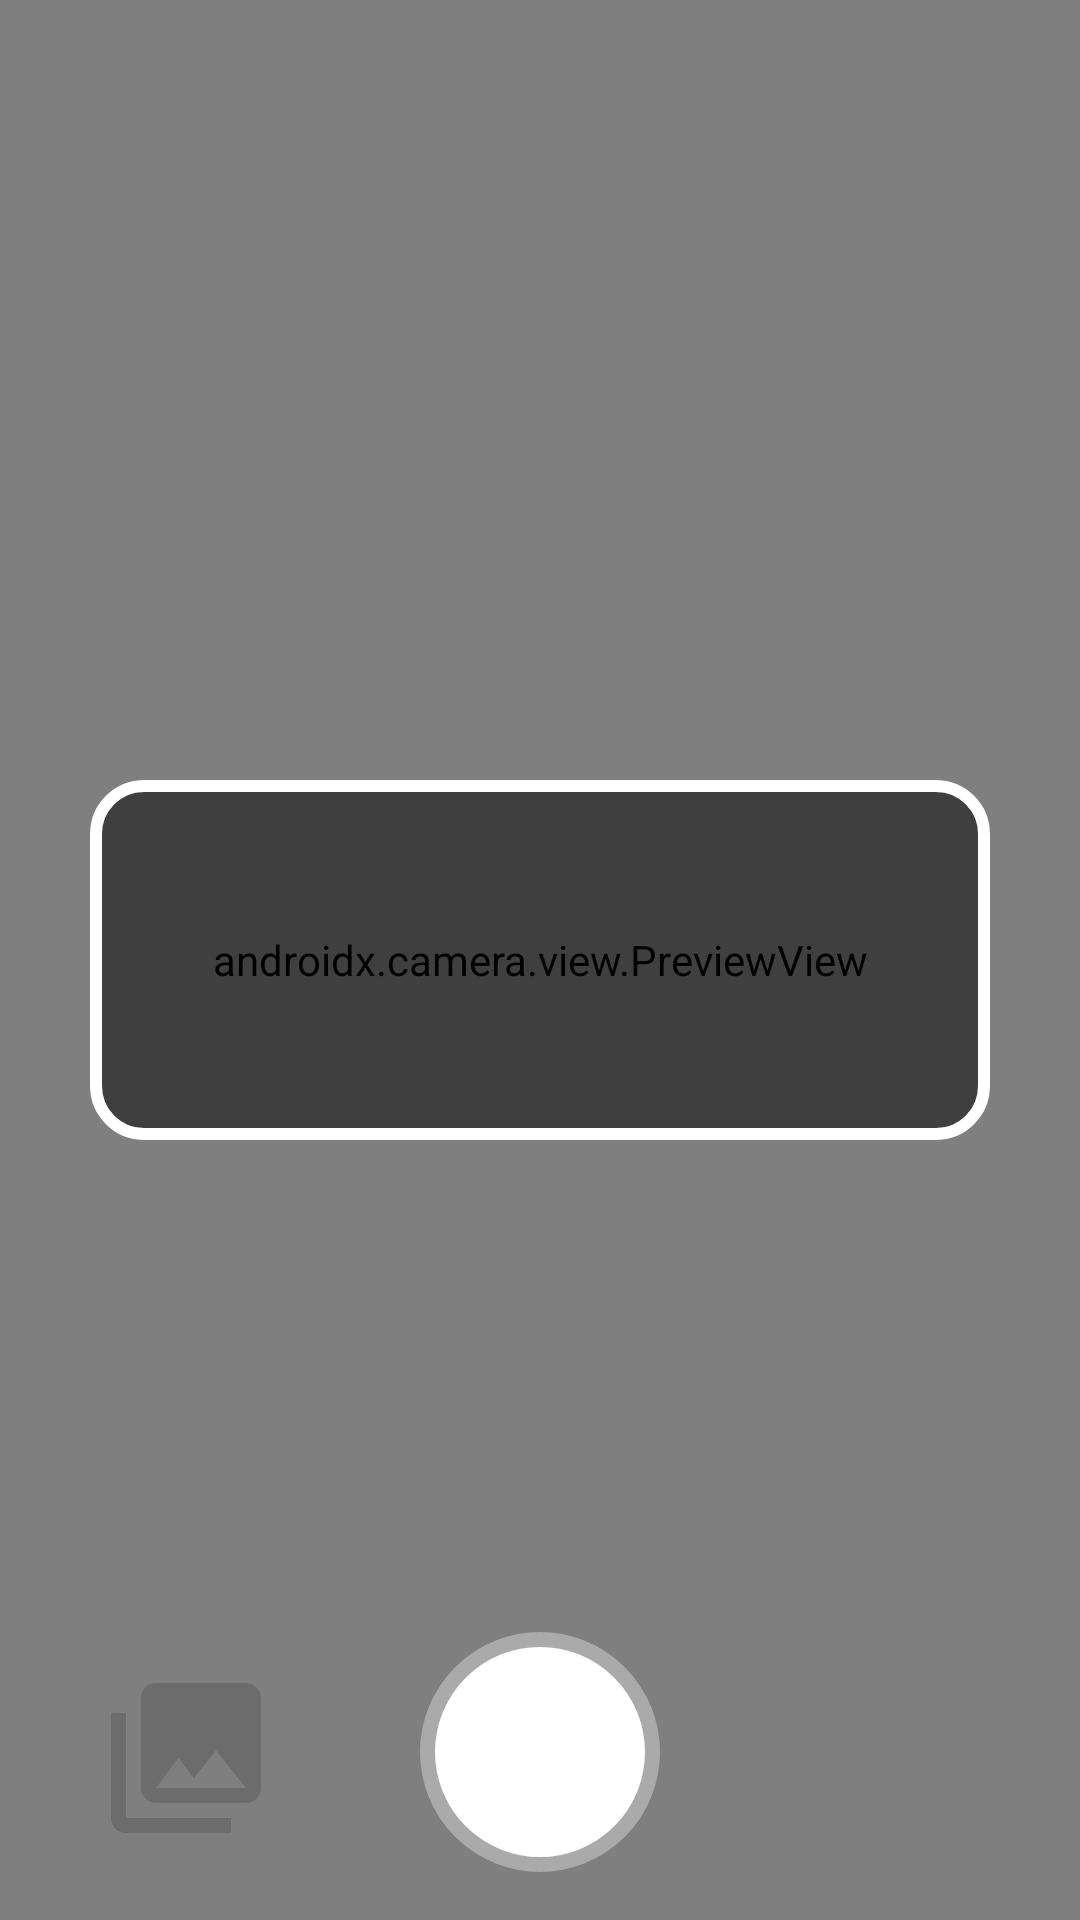

Icons on this 1080px x 1920px Android screen, each with its box as box(x1, y1, x2, y2):
shutter: box(420, 1632, 660, 1872)
